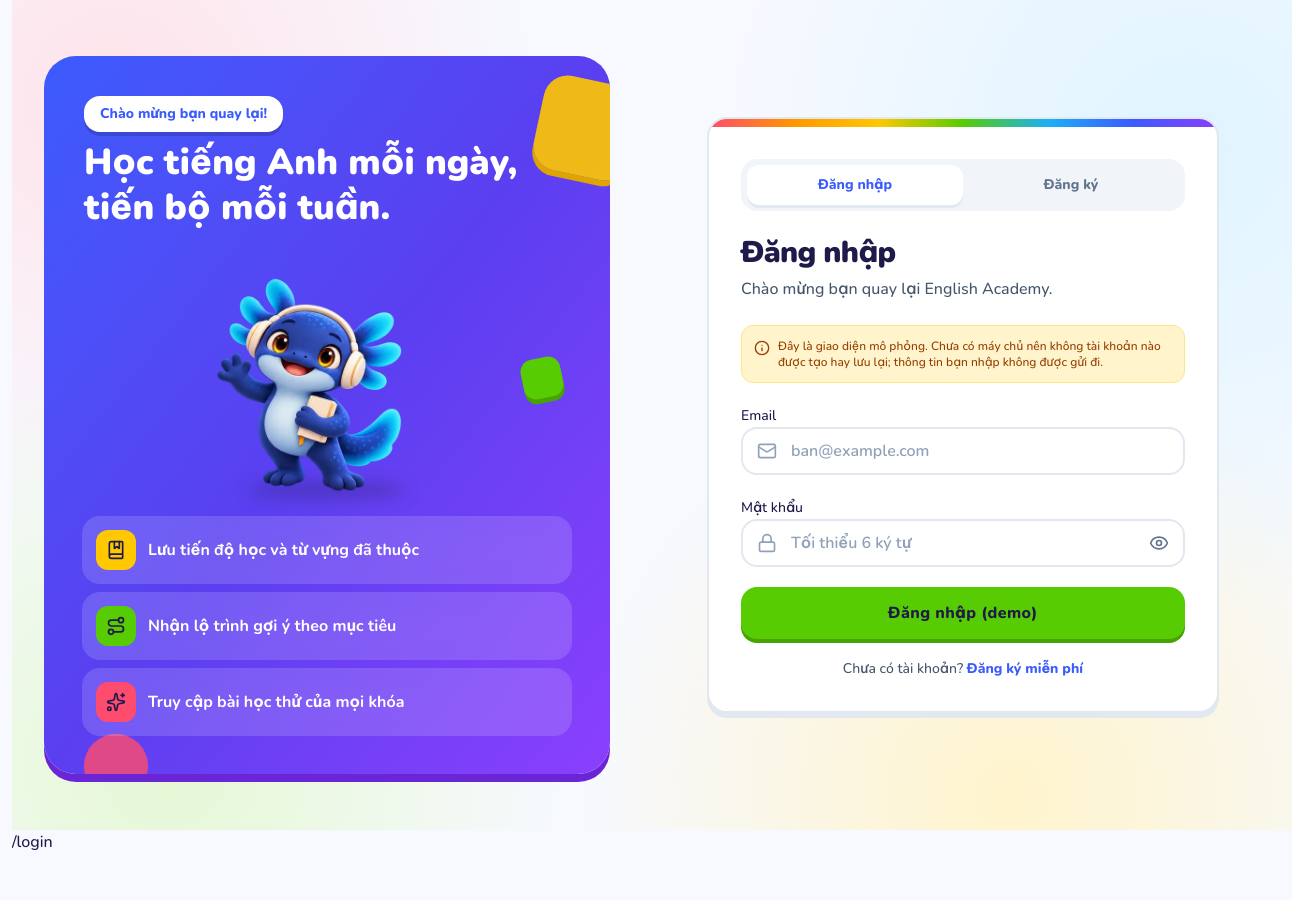
Test case: trang đăng nhập › Lumi che mắt khi hiện mật khẩu và mở mắt khi ẩn lại
Click the button named "Hiện mật khẩu".
click(1159, 543)  # box top-left (1141, 525), bottom-right (1177, 561)
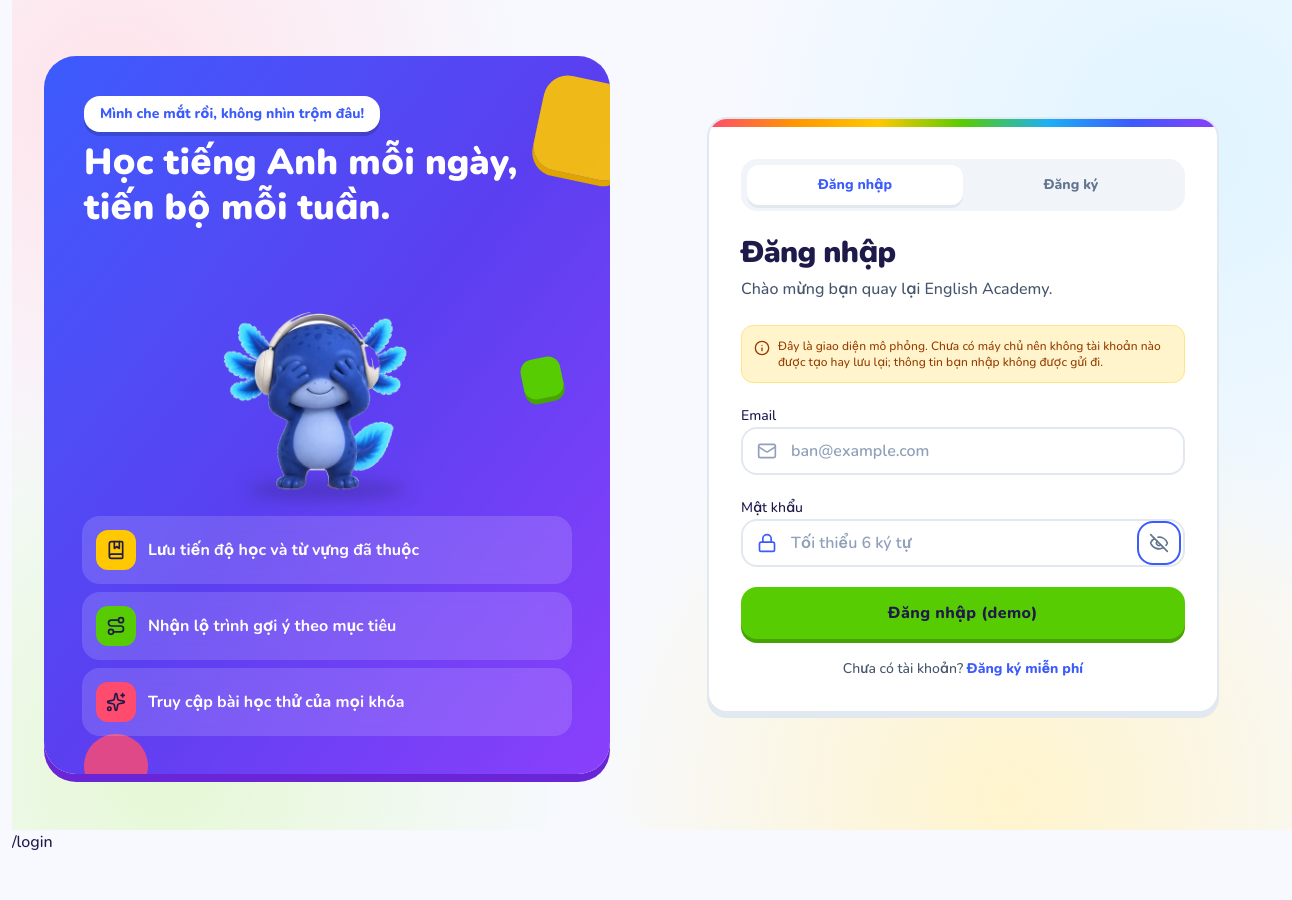
Now the text "Mình che mắt rồi, không nhìn trộm đâu!" is shown, box top-left (84, 96), bottom-right (380, 132)
Click the button named "Ẩn mật khẩu".
click(1159, 543)  # box top-left (1141, 525), bottom-right (1177, 561)
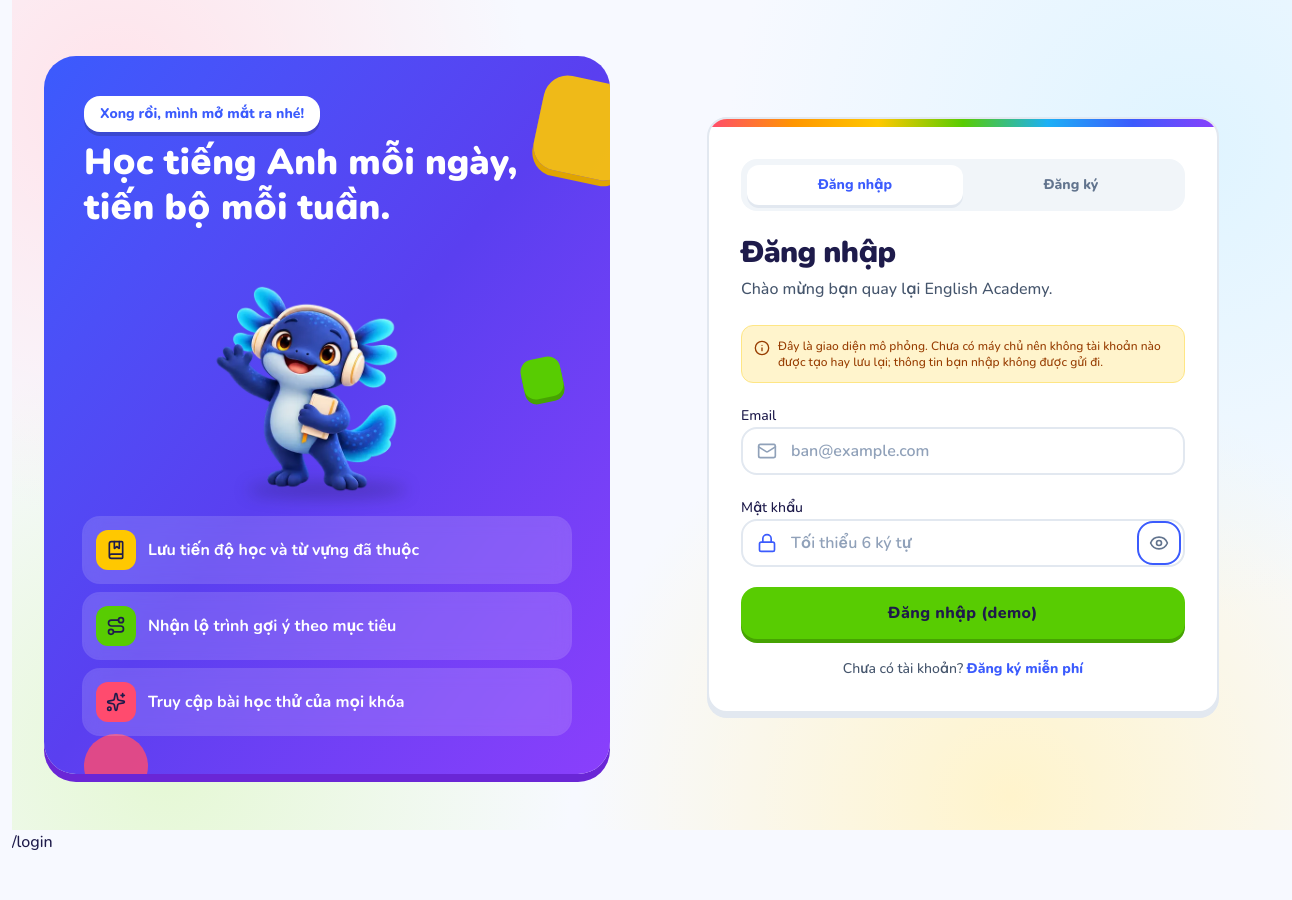
Now the text "Xong rồi, mình mở mắt ra nhé!" is shown, box top-left (84, 96), bottom-right (320, 132)
